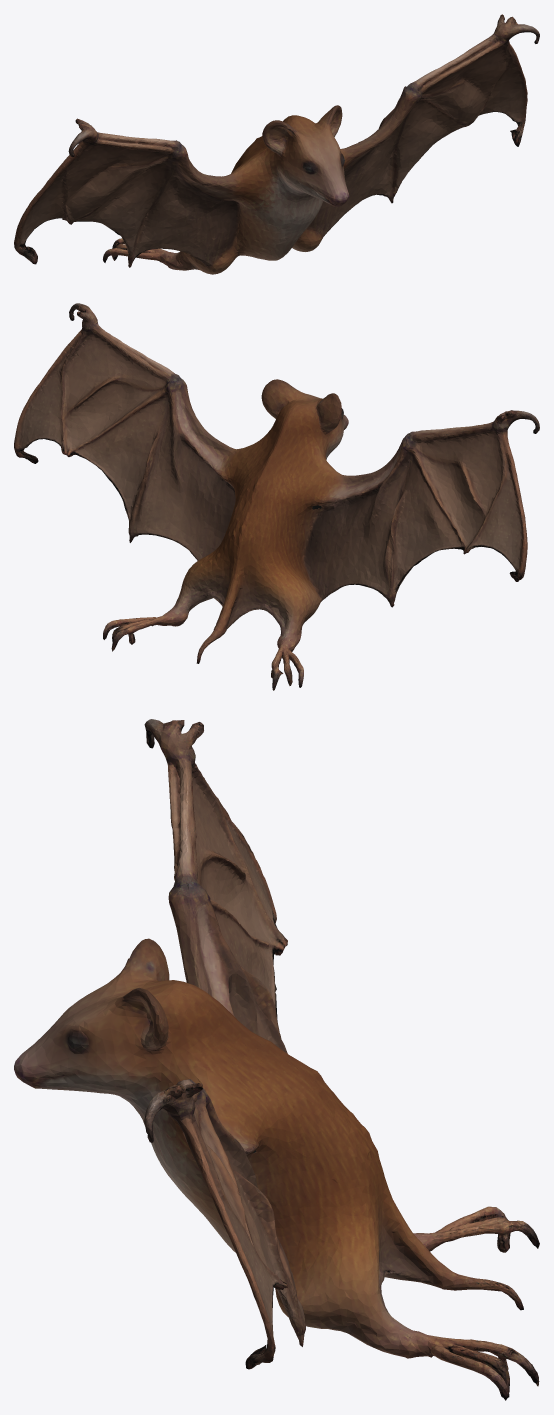
3 views of the same model, one above another, from view 1: azimuth 30°, elevation 25°; view 2: azimuth 150°, elevation 25°; view 3: azimuth 270°, elevation 25° (orthographic). The views are drawn at different scales.
Visible parts, largest first — view 1: world; view 2: world; view 3: world.
Part boxes in pixels (x1,y1,x2,y2): world: (14, 14, 539, 274); world: (14, 303, 539, 690); world: (14, 719, 539, 1400).
Size of the model in its own units: 0.28 by 0.1248 by 0.1429.
1 material, 1 textured.
